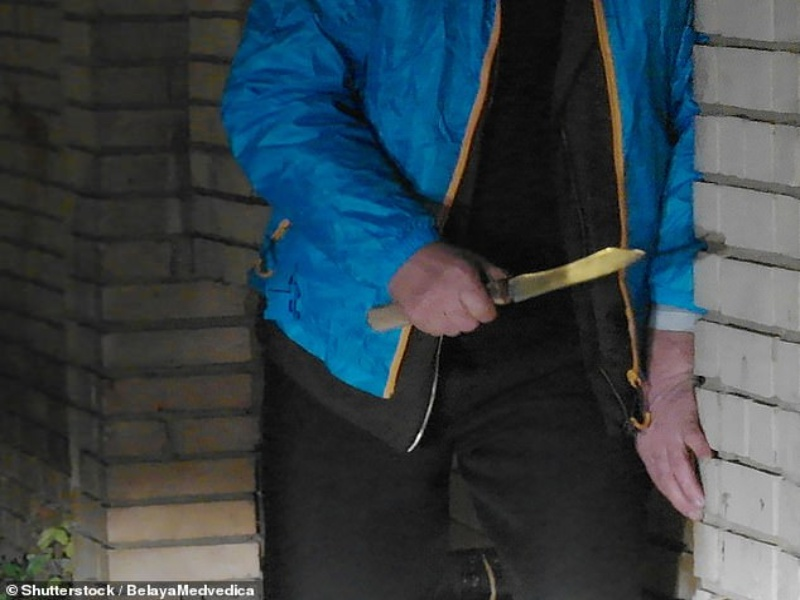hand: (635, 327, 725, 520), (386, 241, 505, 336)
knife: (481, 245, 646, 304)
person: (219, 1, 706, 600)
